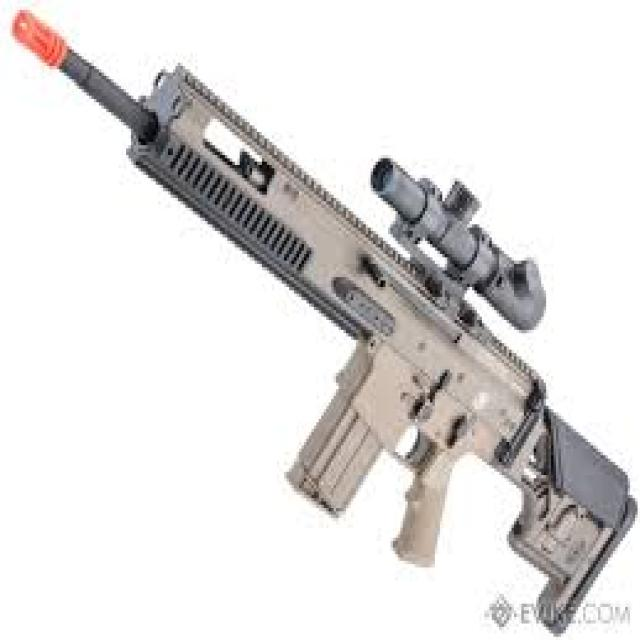Gun: (8, 5, 640, 640)
